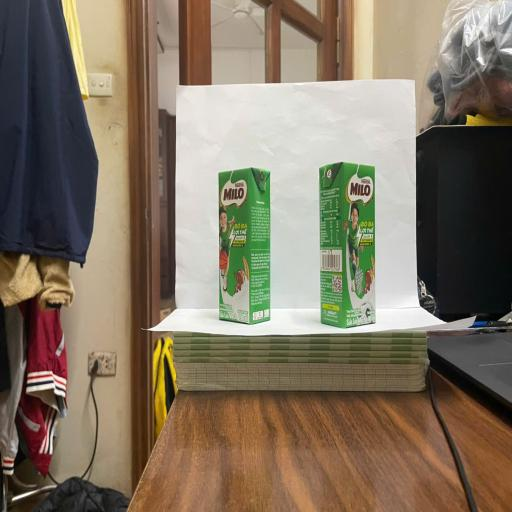milo: (319, 162, 374, 326), (220, 170, 272, 324)
